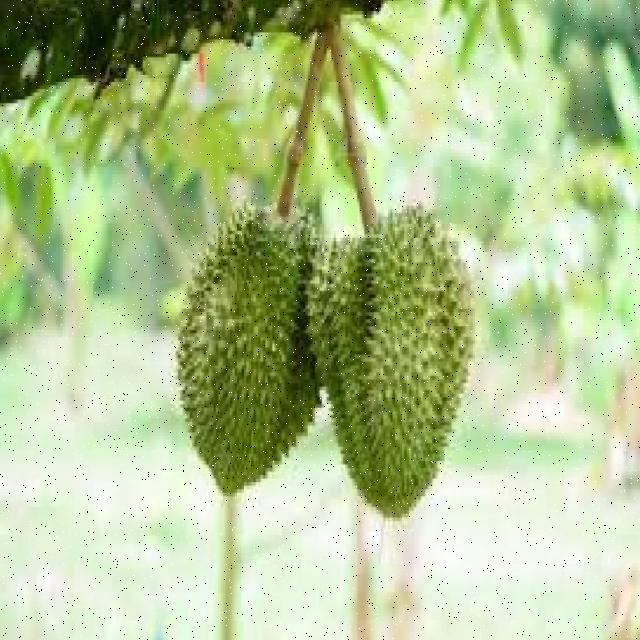UNRIPE: (310, 204, 476, 518), (174, 201, 324, 495)
